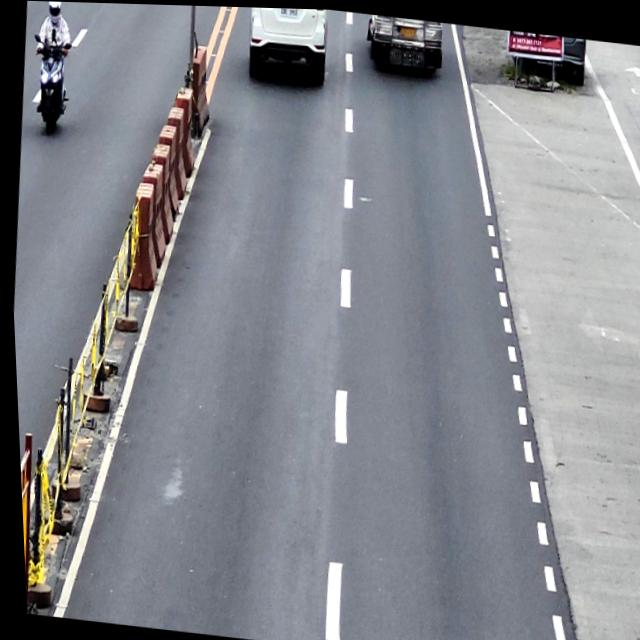Car: (243, 6, 332, 85)
License-Plate: (279, 6, 298, 16)
